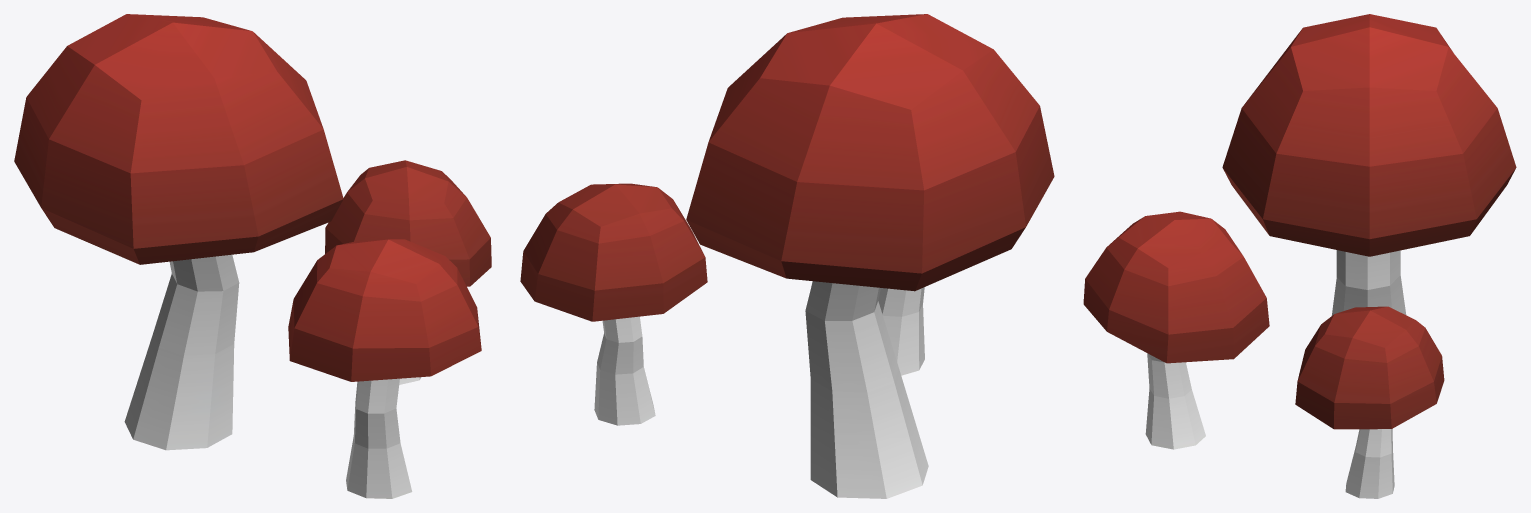
The model's file is SM_Exterior_Setas_04.fbx.
3 renders of one model, left to right at view 1: azimuth 30°, elevation 25°; view 2: azimuth 150°, elevation 25°; view 3: azimuth 270°, elevation 25°, orthographic. The views are drawn at different scales.
Parts seen in each view (by area): view 1: SM_Exterior_Setas4; view 2: SM_Exterior_Setas4; view 3: SM_Exterior_Setas4.
Boxes of the visible parts, x1,y1,x2,y2 form: SM_Exterior_Setas4: [14, 14, 491, 498]; SM_Exterior_Setas4: [520, 14, 1054, 498]; SM_Exterior_Setas4: [1083, 14, 1516, 498].
Bounding box in the file's own units: 38.15 × 33.83 × 36.2.
